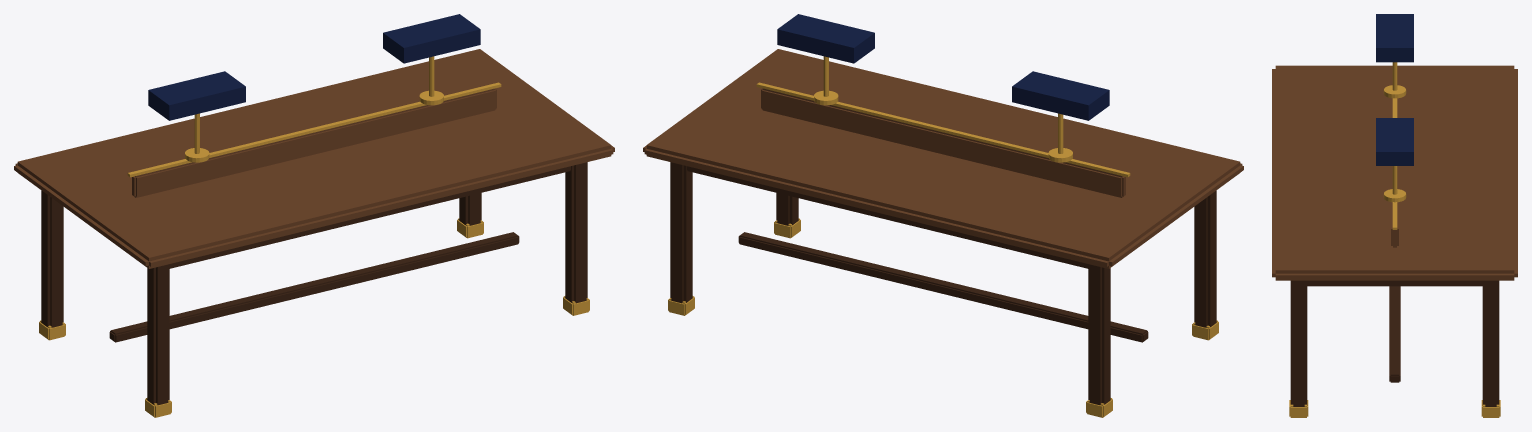
The model's file is table.glb.
3 views of the same model, side by side, from view 1: azimuth 30°, elevation 25°; view 2: azimuth 150°, elevation 25°; view 3: azimuth 270°, elevation 25° (orthographic). The views are drawn at different scales.
Visible parts, largest first — view 1: table_wood, table_wood_dark, table_navy, table_brass; view 2: table_wood, table_wood_dark, table_navy, table_brass; view 3: table_wood, table_wood_dark, table_navy, table_brass.
Boxes of the visible parts, x1,y1,x2,y2 form: table_wood: (14,49,614,268); table_wood_dark: (41,162,587,405); table_navy: (148,14,480,120); table_brass: (39,56,589,417); table_wood: (643,49,1243,268); table_wood_dark: (670,162,1216,405); table_navy: (777,14,1109,120); table_brass: (668,56,1218,417); table_wood: (1272,65,1517,280); table_wood_dark: (1290,280,1499,406); table_navy: (1376,14,1413,165); table_brass: (1289,62,1500,417).
Size of the model in its own units: 2.2 by 1.18 by 1.1.
